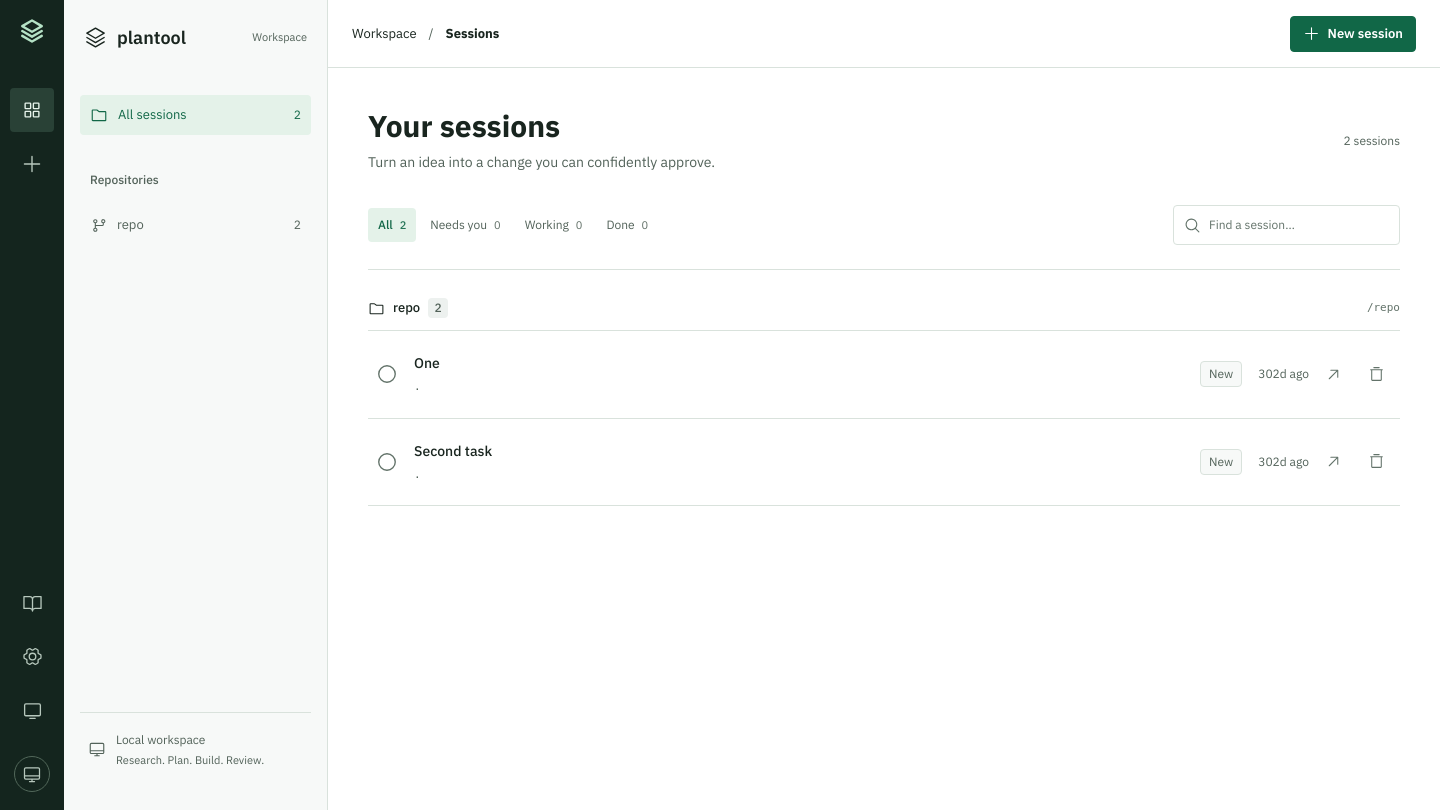
finds a session by its brief and offers a way to clear the search
The image size is (1440, 810).
Expected: the link named "Open One" is shown, [376,354,1342,393]
Type "login" into the search field named "Search sessions" at (1304, 225), box [1209,206,1399,244]
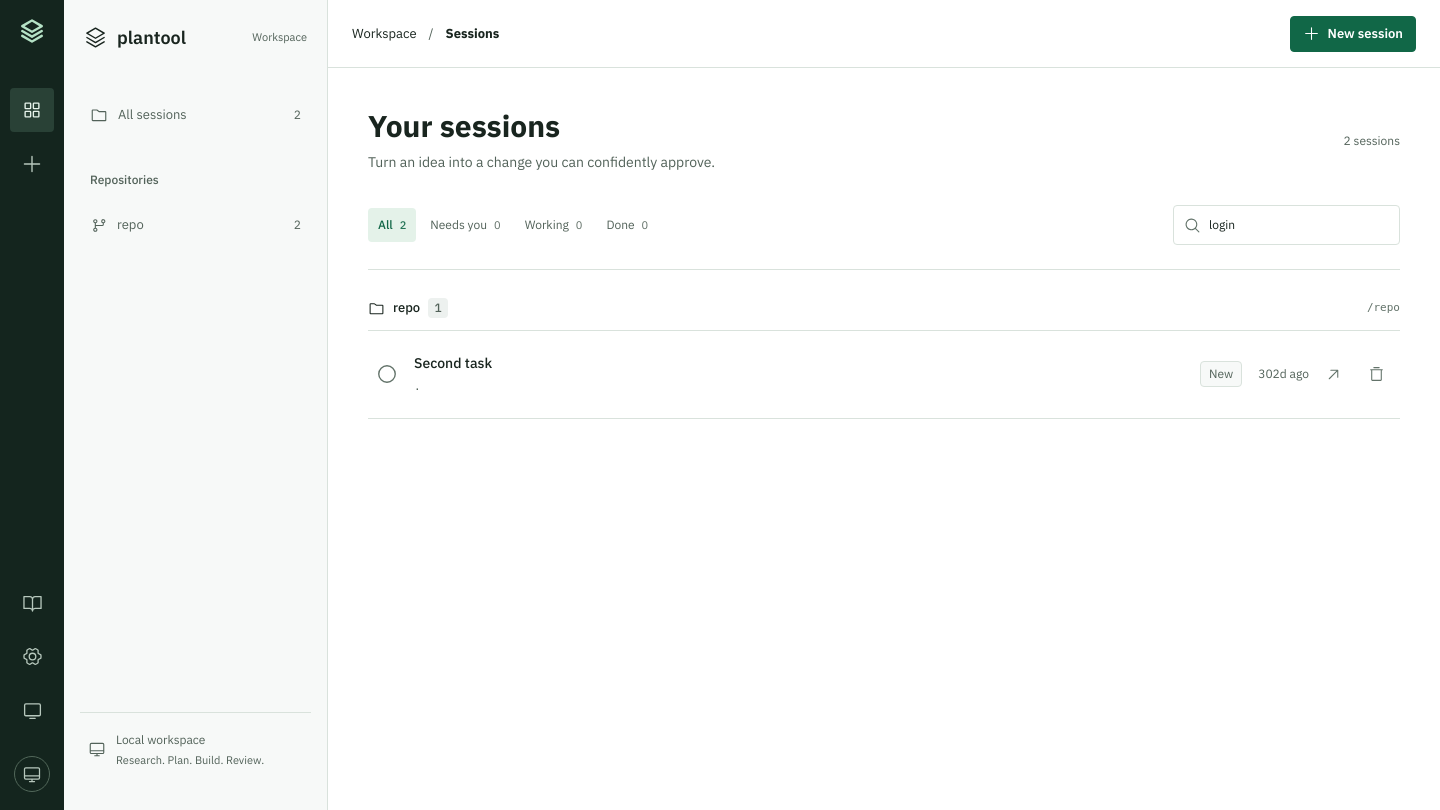
Expected: the link named "Open Second task" is shown, [376,354,1342,393]
Expected: the link "Open One" is not shown
Replace the text in the search field named "Search sessions" with "missing" at (1304, 225), box [1209,206,1399,244]
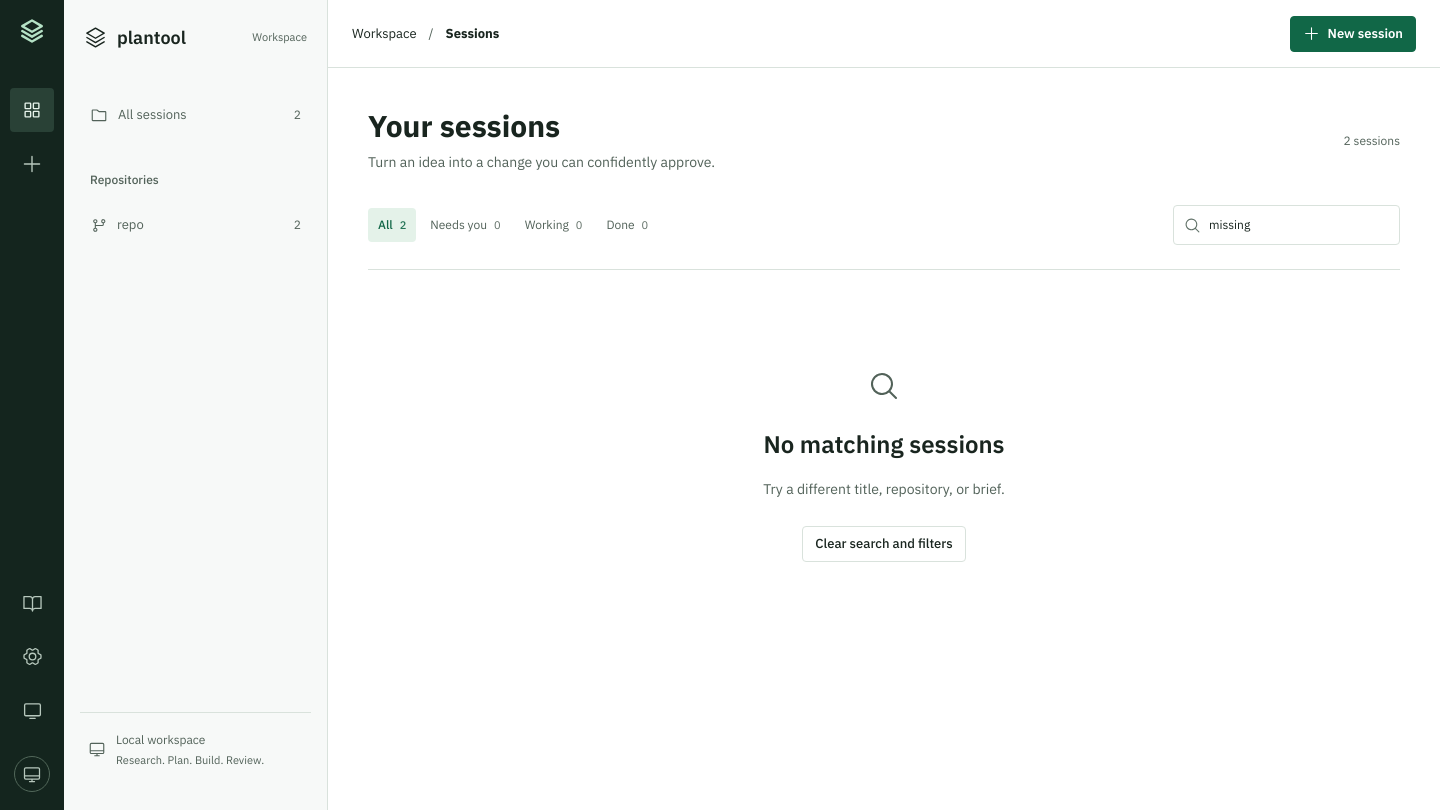
Click the button "Clear search and filters" at (884, 544), box [802,526,966,562]
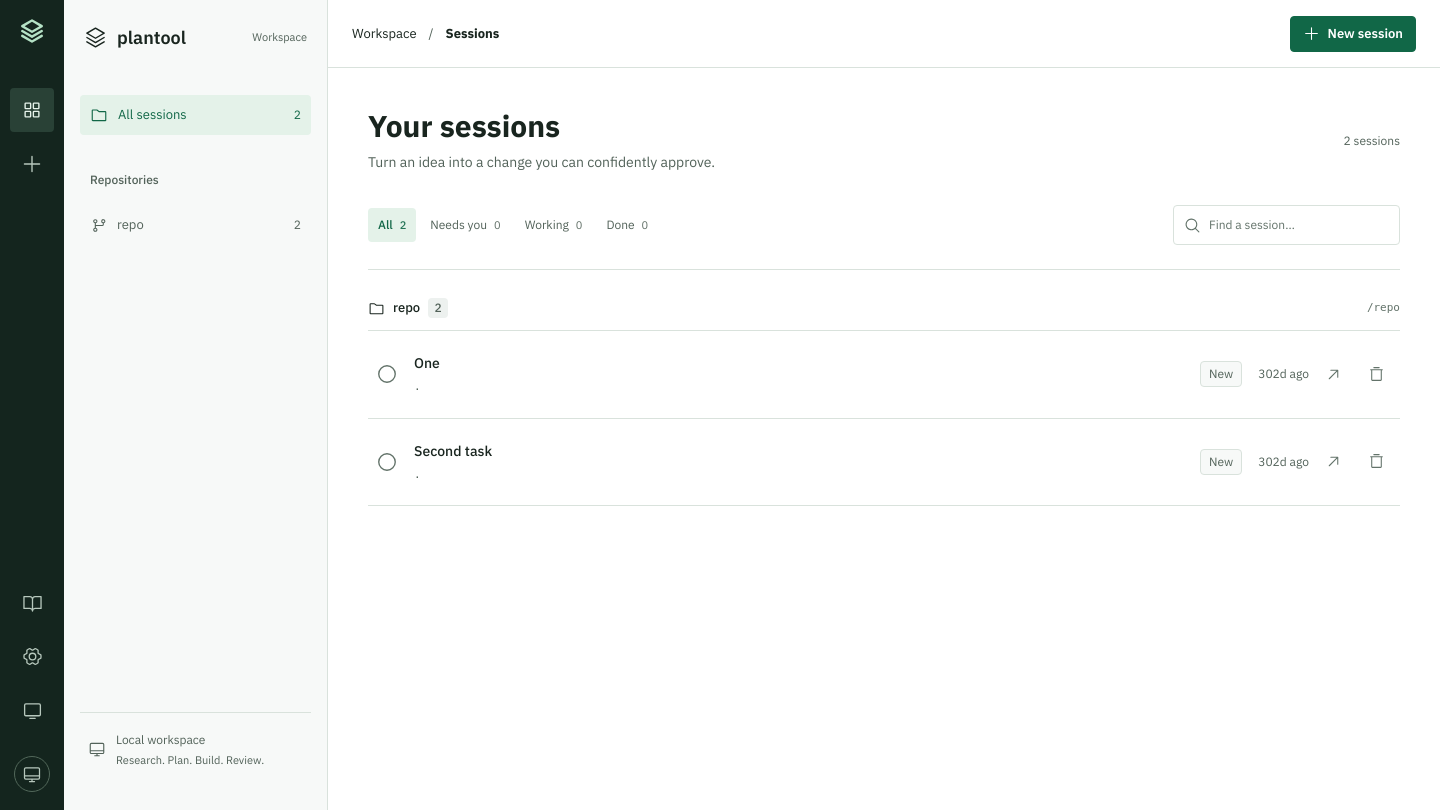
Expected: the link named "Open One" is shown, [376,354,1342,393]
